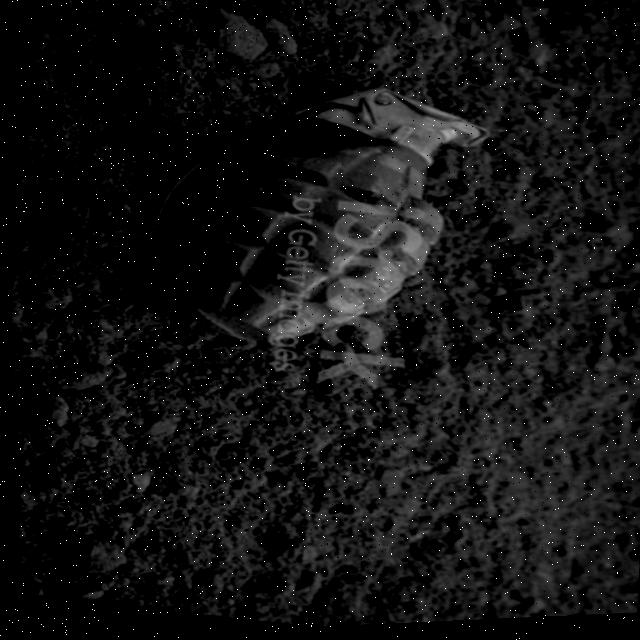grenade: (111, 48, 500, 388)
